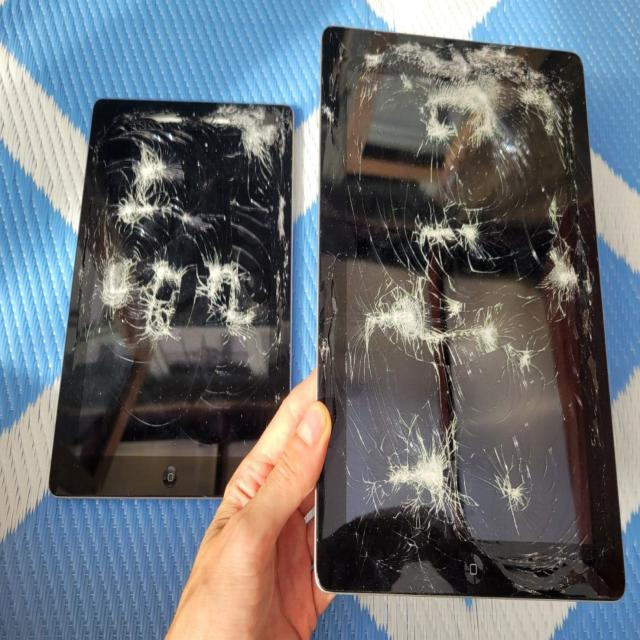Crack: (320, 274, 628, 600), (318, 26, 606, 275), (62, 93, 292, 369)
